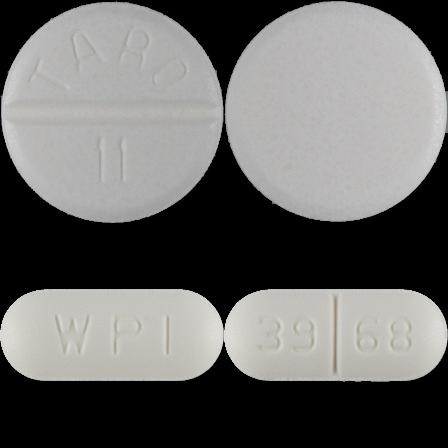50436-3415: (0, 0, 224, 224)
